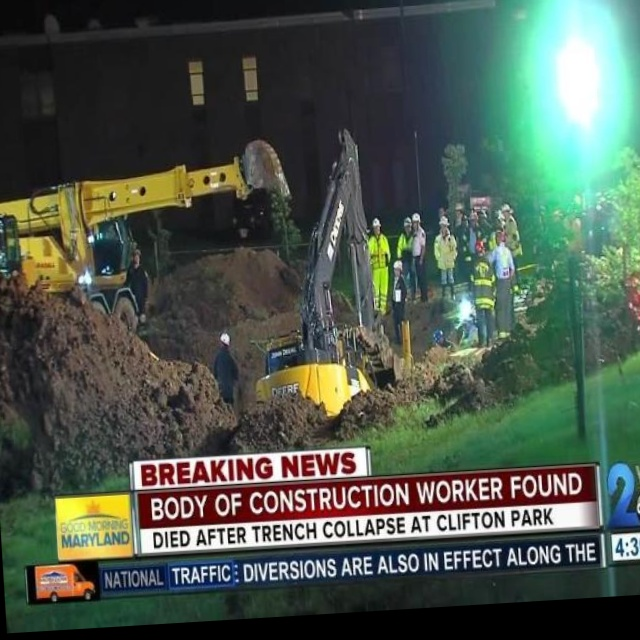Con_Chaleco: (469, 256, 497, 311), (368, 234, 390, 272)
